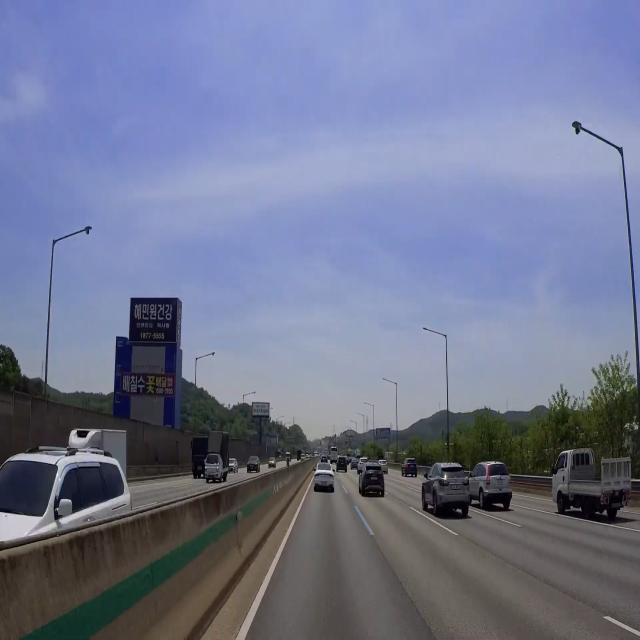car: (448, 482, 466, 495), (609, 497, 624, 512), (370, 472, 382, 488), (318, 477, 330, 490), (493, 478, 507, 488)
